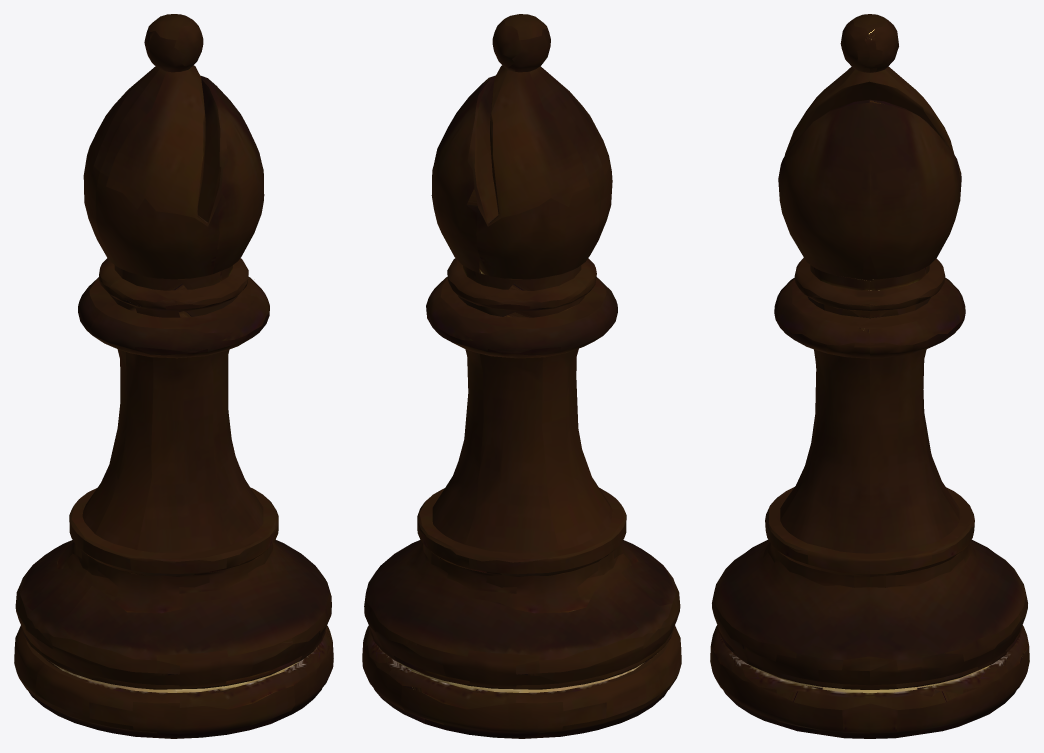
3 renders of one model, left to right at view 1: azimuth 30°, elevation 25°; view 2: azimuth 150°, elevation 25°; view 3: azimuth 270°, elevation 25°, orthographic.
Parts seen in each view (by area): view 1: geometry_0; view 2: geometry_0; view 3: geometry_0.
Part boxes in pixels (x1,y1,x2,y2): geometry_0: (14,14,333,738); geometry_0: (362,14,681,738); geometry_0: (710,14,1029,738).
Size of the model in its own units: 0.4411 by 1 by 0.441.
1 material, 1 textured.
